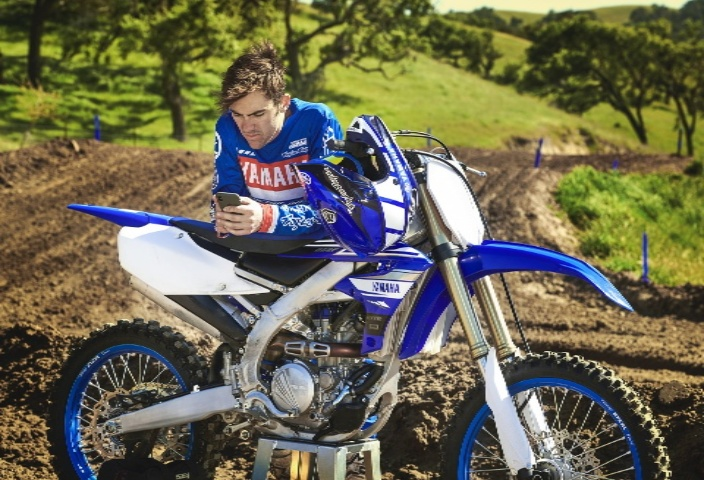motorcycle: (41, 48, 656, 480)
